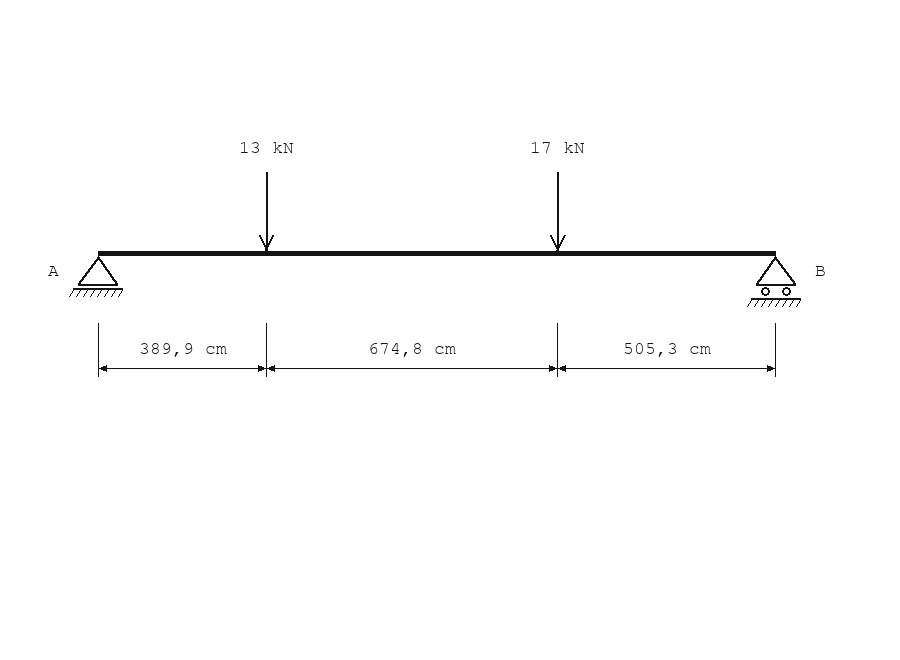pin_support: (69, 256, 123, 297)
point_load: (550, 172, 566, 251), (259, 172, 274, 251)
roller_support: (747, 256, 801, 307)
